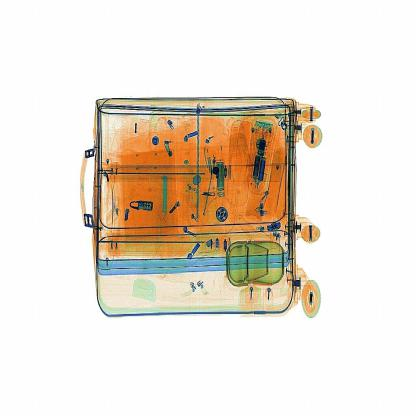pliers: (154, 172, 178, 236)
